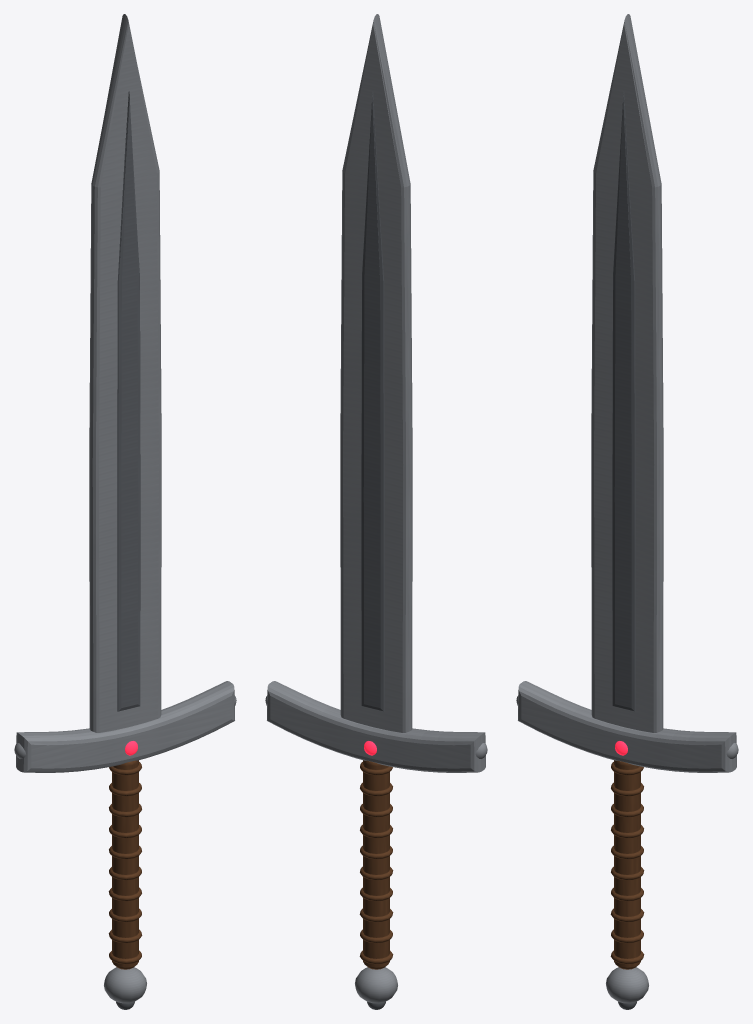
The model's file is greatsword.glb.
3 renders of one model, left to right at view 1: azimuth 30°, elevation 25°; view 2: azimuth 150°, elevation 25°; view 3: azimuth 330°, elevation 25°, orthographic.
Parts seen in each view (by area): view 1: blade, guard, grip, pommel; view 2: blade, guard, grip, pommel; view 3: blade, guard, grip, pommel.
Part boxes in pixels (x1,y1,x2,y2): blade: [89, 14, 161, 732]; guard: [14, 681, 236, 772]; grip: [108, 760, 142, 969]; pommel: [104, 967, 146, 1009]; blade: [340, 14, 412, 732]; guard: [265, 681, 487, 772]; grip: [359, 760, 393, 969]; pommel: [355, 967, 397, 1009]; blade: [591, 14, 663, 732]; guard: [516, 681, 738, 772]; grip: [610, 760, 644, 969]; pommel: [606, 967, 648, 1009].
Bounding box in the file's own units: 0.372 × 1.61 × 0.0624.
4 materials, 3 textured.
